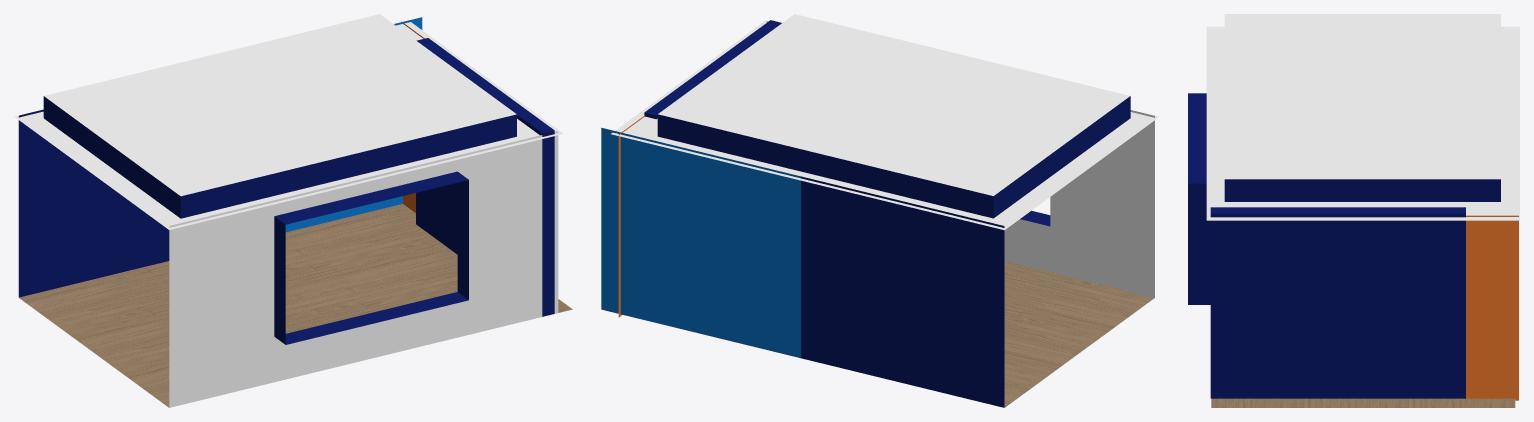
File: Studio.glb
3 views of the same model, side by side, from view 1: azimuth 30°, elevation 25°; view 2: azimuth 150°, elevation 25°; view 3: azimuth 270°, elevation 25° (orthographic).
Parts seen in each view (by area): view 1: Teto, Janela, Piso, Plane.001, Cube.001; view 2: Plane.001, Teto, Janela, Piso, Cube.001, Cube.021; view 3: Teto, Cube.001, Cube.021, Janela, Piso.
Part boxes in pixels (left/top/right/bottom): Teto: left=14, top=14, right=563, bottom=229; Janela: left=169, top=131, right=558, bottom=407; Piso: left=19, top=204, right=572, bottom=407; Plane.001: left=18, top=17, right=422, bottom=297; Cube.001: left=416, top=38, right=554, bottom=316; Plane.001: left=601, top=127, right=1004, bottom=407; Teto: left=611, top=14, right=1159, bottom=230; Janela: left=766, top=21, right=1154, bottom=297; Piso: left=1004, top=261, right=1154, bottom=407; Cube.001: left=644, top=20, right=781, bottom=119; Cube.021: left=618, top=115, right=644, bottom=317; Teto: left=1206, top=14, right=1519, bottom=220; Cube.001: left=1210, top=207, right=1465, bottom=398; Cube.021: left=1466, top=215, right=1518, bottom=400; Janela: left=1188, top=93, right=1210, bottom=304; Piso: left=1211, top=398, right=1515, bottom=407.
Size of the model in its own units: 9.33 by 4.49 by 6.55.
Materials: 2 (2 with a texture image).
